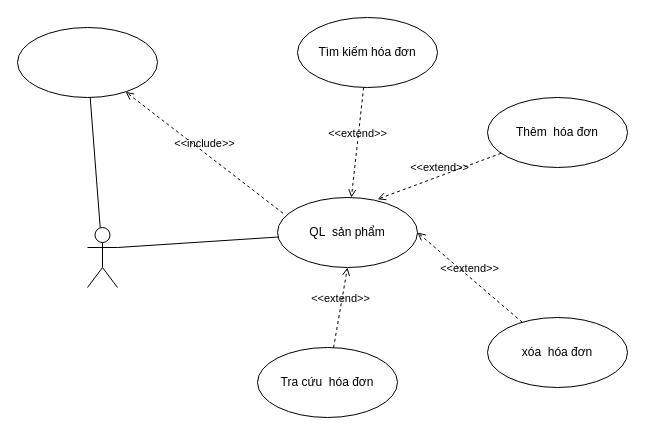
The diagram is 645 pixels wide and 435 high, and some of its shapes have lost their labels. The centre of each missing label's shape, as x and y in pixels:
Nhân viên QL: [102,257]
Đăng nhập: [87,62]
